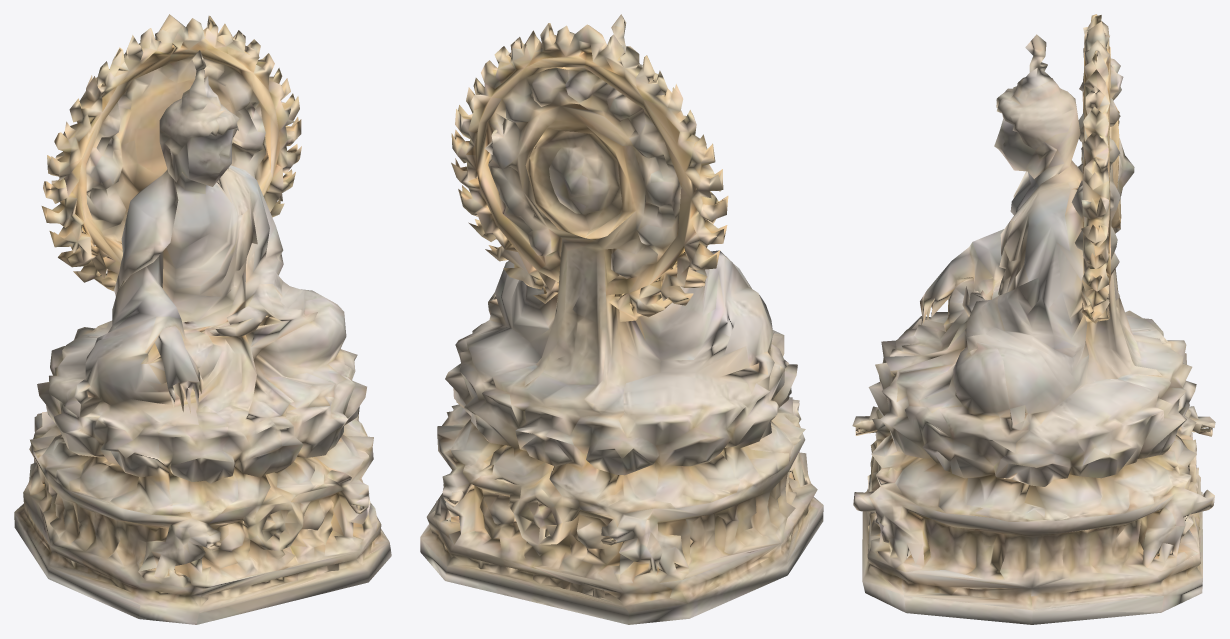
File: far.glb
3 renders of one model, left to right at view 1: azimuth 30°, elevation 25°; view 2: azimuth 150°, elevation 25°; view 3: azimuth 270°, elevation 25°, orthographic. The views are drawn at different scales.
Parts seen in each view (by area): view 1: four-heavenly-kings-02; view 2: four-heavenly-kings-02; view 3: four-heavenly-kings-02.
Part boxes in pixels (bbox=[...]): four-heavenly-kings-02: bbox=[14, 14, 391, 624]; four-heavenly-kings-02: bbox=[420, 14, 823, 624]; four-heavenly-kings-02: bbox=[852, 14, 1215, 624].
Bounding box in the file's own units: 0.6348 × 0.9943 × 0.619.
Materials: 1 (1 with a texture image).
